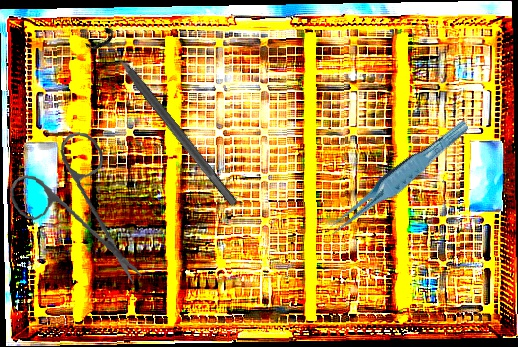Fixation Ring: (83, 23, 248, 216)
Iris Scissors: (0, 124, 159, 285)
Tissue Forceps: (316, 119, 478, 239)
